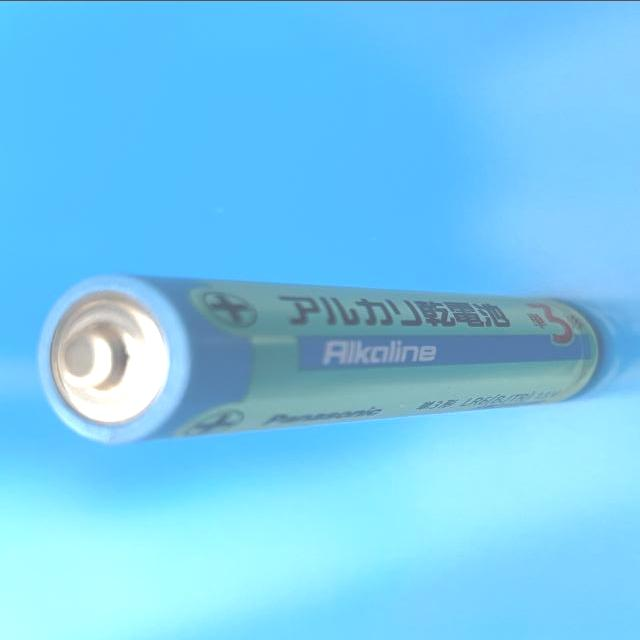AAA: (36, 270, 604, 445)
